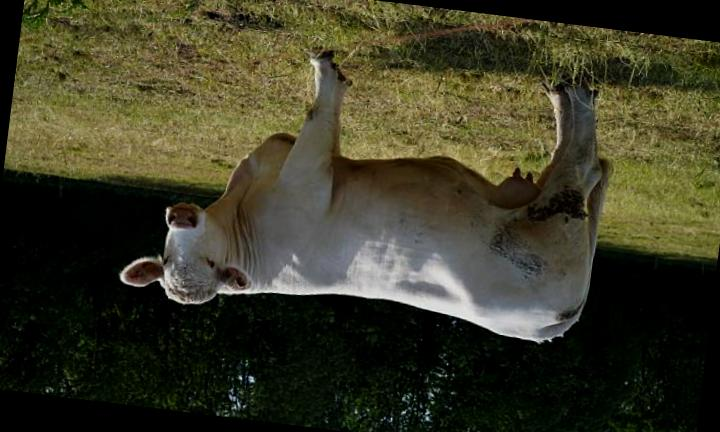Charolais: (121, 51, 608, 342)
